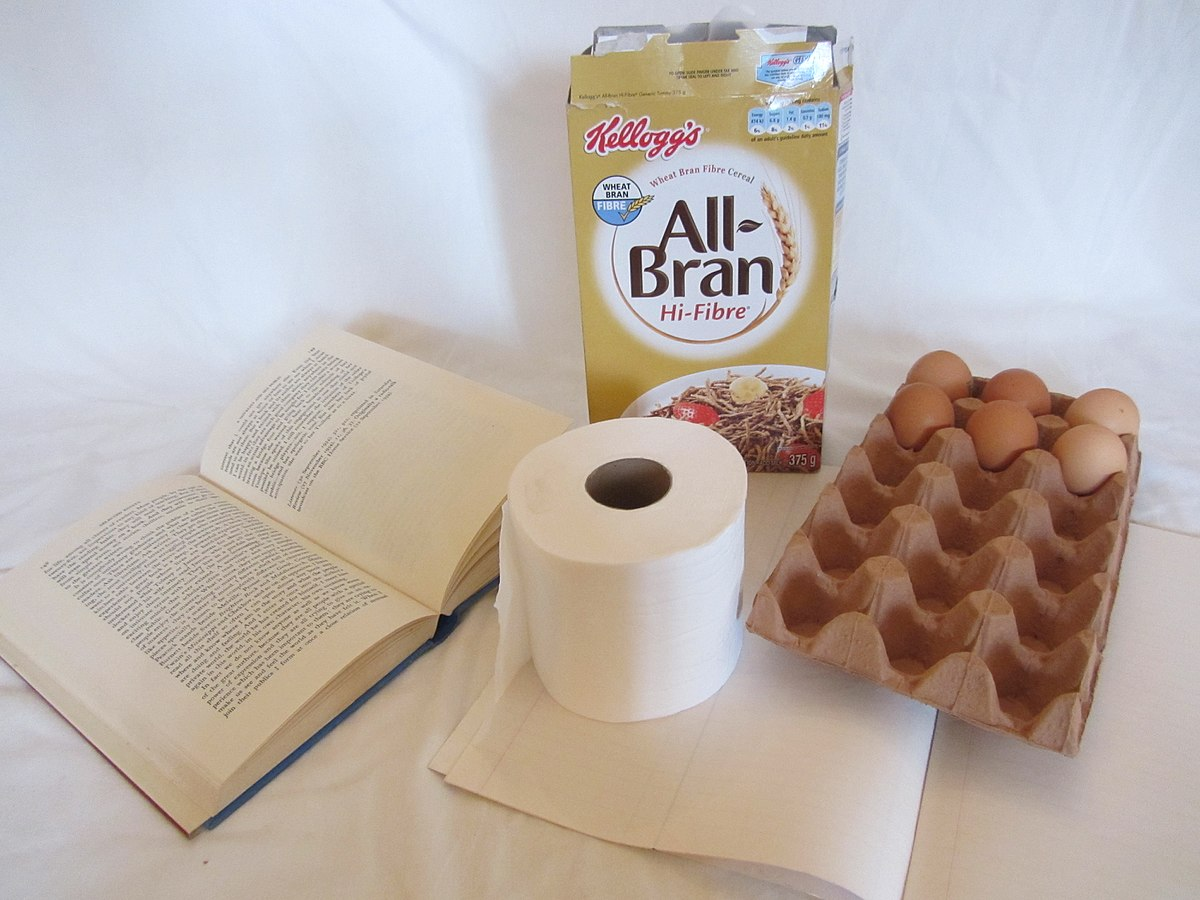Tissue: (497, 411, 752, 726)
